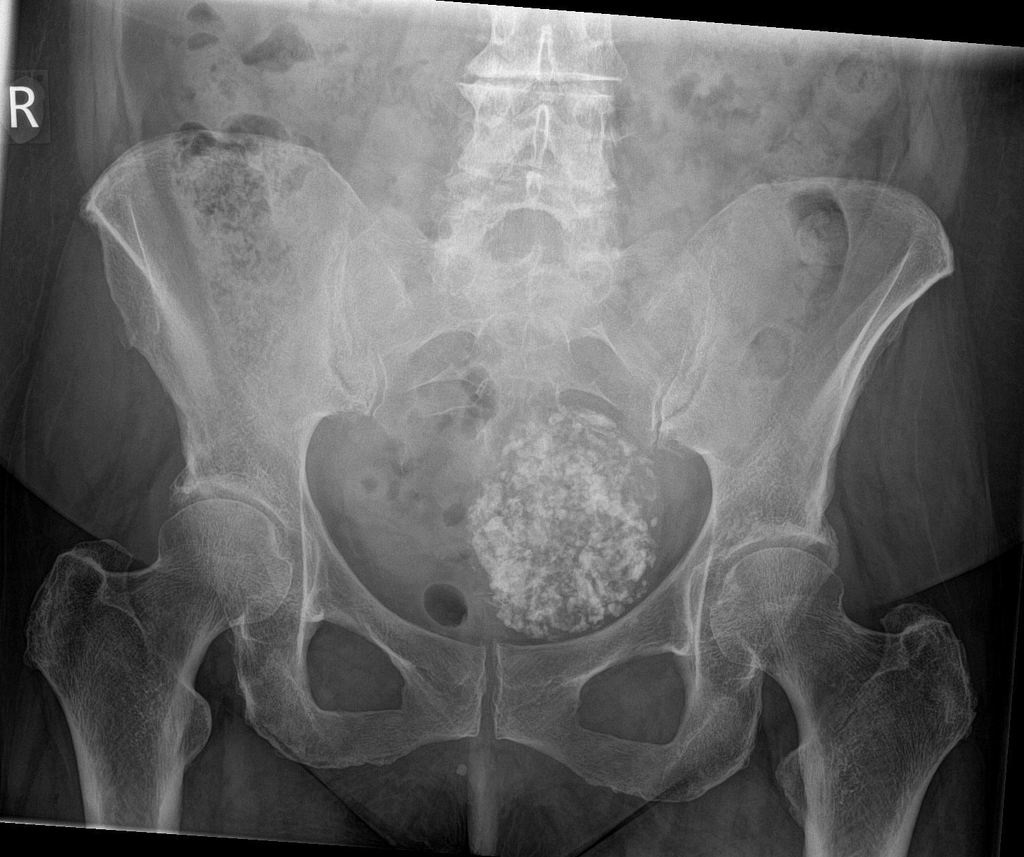Uterine fibroids: (463, 401, 667, 638)
